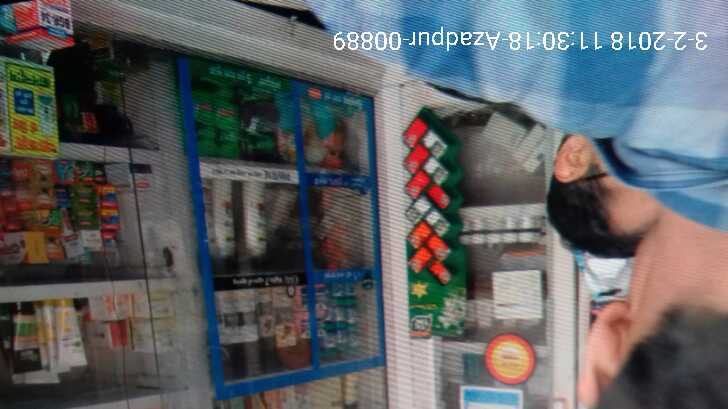vicks: (314, 287, 360, 350)
